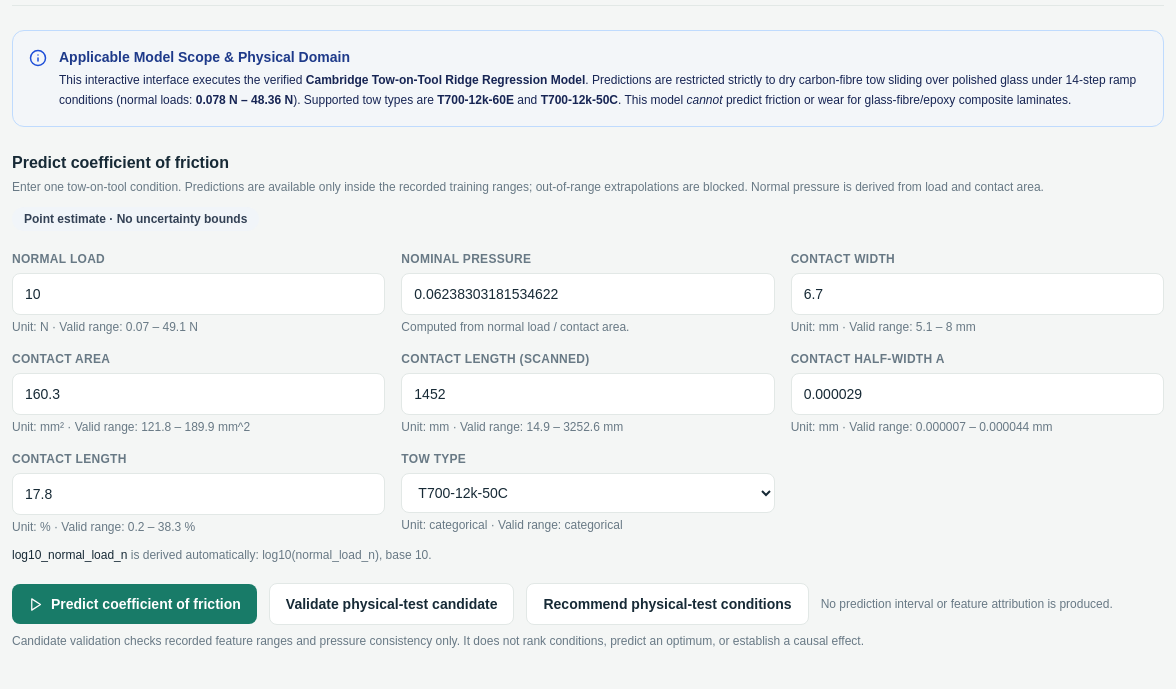
CofPredictionForm › shows the external domain limitation and metrics after predicting
Click the button "Predict coefficient of friction" at (134, 604), box [12,584,257,624]
(page scrolled)
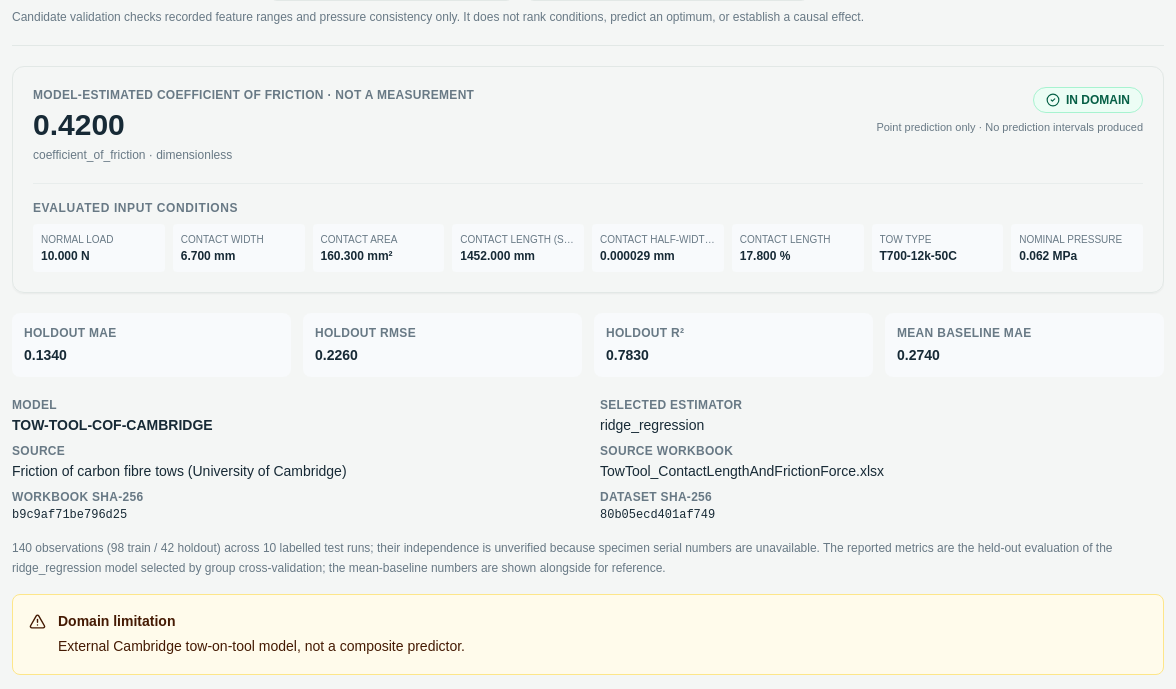
Check: the text "0.4200" is shown, box [33,108,125,141]
Check: the text "Domain limitation" is shown, box [58,613,176,629]
Check: the text "not a composite predictor" is shown, box [58,638,465,654]
